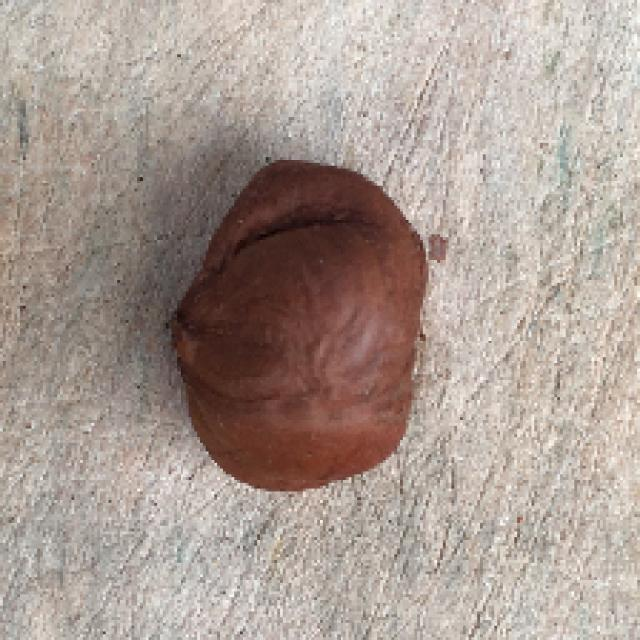hazelnut: (150, 159, 441, 496)
